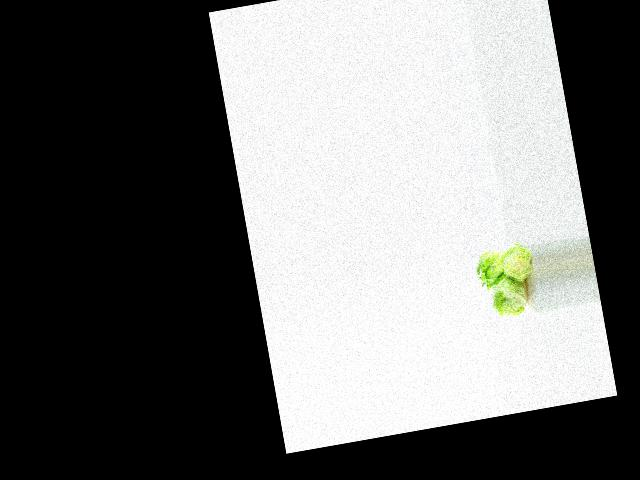lettuce: (469, 246, 510, 294)
